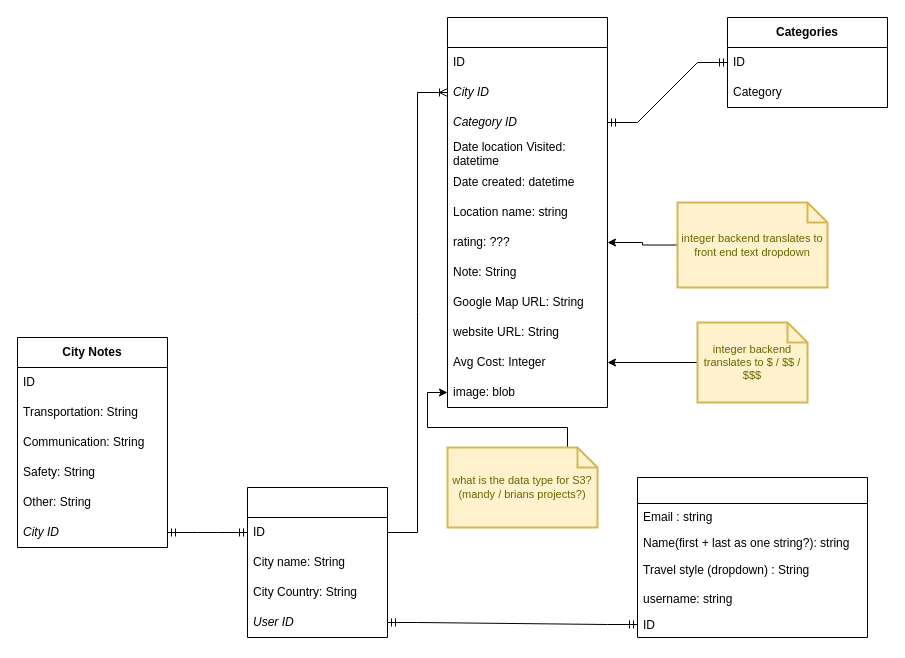
Some shapes in this 905 by 658 pixel diagram are drawn without their labels. Each missing label, with the box of its shape:
Cities: (246, 486, 388, 638)
location entries: (446, 16, 608, 408)
Users: (636, 476, 868, 638)
